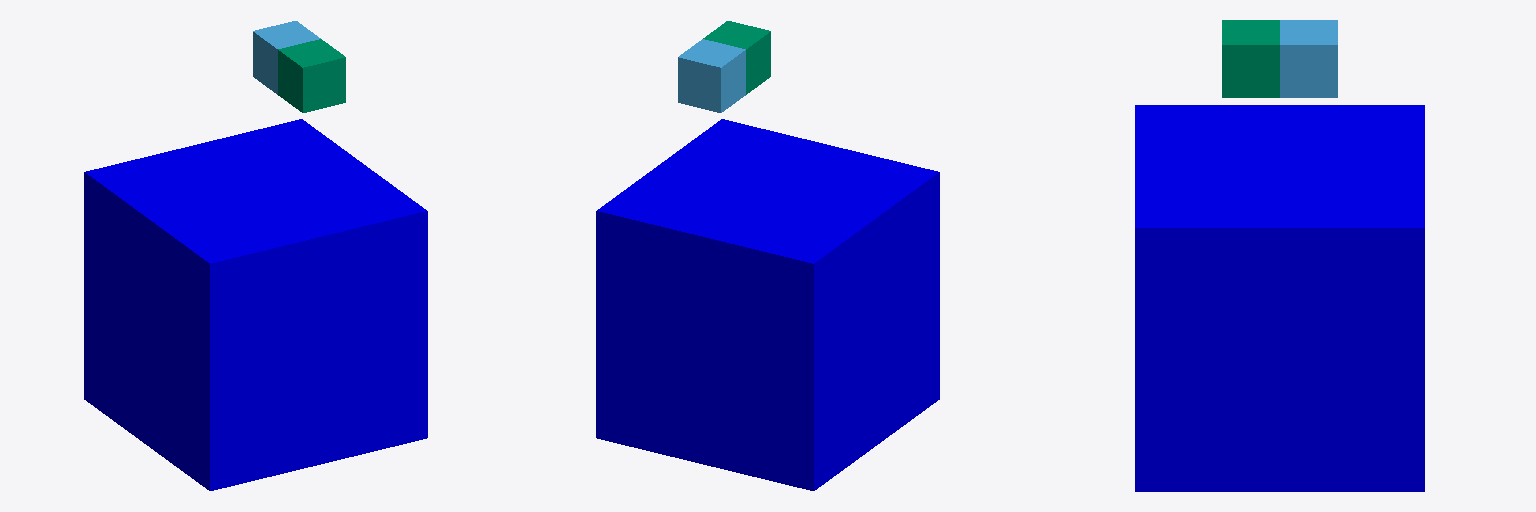
URDF robot description (stereo_camera):
<?xml version="1.0"?>
<robot name="stereo_camera"
    xmlns:xacro="http://www.ros.org/wiki/xacro">
    <!-- Base Link -->
    <link name="base_link">
        <visual>
            <geometry>
                <box size="0.5 0.5 0.5"/>
            </geometry>
            <material name="blue">
                <color rgba="0 0 1 1"/>
            </material>
        </visual>
        <collision>
            <geometry>
                <box size="0.5 0.5 0.5"/>
            </geometry>
        </collision>
        <inertial>
            <mass value="5.0"/>
            <origin xyz="0 0 0"/>
            <inertia ixx="0.1" ixy="0.0" ixz="0.0" iyy="0.1" iyz="0.0" izz="0.1"/>
        </inertial>
    </link>

    <!-- Left Camera Link -->
    <link name="left_camera_link">
        <visual>
            <origin xyz="0 0 0" rpy="0 0 0"/>
            <geometry>
                <box size="0.1 0.1 0.1"/>
            </geometry>
        </visual>
        <collision>
            <origin xyz="0 0 0" rpy="0 0 0"/>
            <geometry>
                <box size="0.1 0.1 0.1"/>
            </geometry>
        </collision>
    </link>

    <!-- Right Camera Link -->
    <link name="right_camera_link">
        <visual>
            <origin xyz="0 0 0" rpy="0 0 0"/>
            <geometry>
                <box size="0.1 0.1 0.1"/>
            </geometry>
        </visual>
        <collision>
            <origin xyz="0 0 0" rpy="0 0 0"/>
            <geometry>
                <box size="0.1 0.1 0.1"/>
            </geometry>
        </collision>
    </link>

    <!-- Left Camera Joint -->
    <joint name="left_camera_joint" type="fixed">
        <parent link="base_link"/>
        <child link="left_camera_link"/>
        <origin xyz="0.1 0.05 0.5" rpy="0 0 0"/>
    </joint>

    <!-- Right Camera Joint -->
    <joint name="right_camera_joint" type="fixed">
        <parent link="base_link"/>
        <child link="right_camera_link"/>
        <origin xyz="0.1 -0.05 0.5" rpy="0 0 0"/>
    </joint>

    <!-- Left Camera Plugin -->
    <gazebo reference="left_camera_link">
        <sensor name="left_rgb_camera" type="camera">
            <visualize>true</visualize>
            <update_rate>20</update_rate>
            <camera>
                <horizontal_fov>2.14875</horizontal_fov>
                <!-- this H_fov is assuming 1920 sensor width and 520 pixels as focal length -->
                <image>
                    <width>1920</width>
                    <height>1080</height>
                    <format>R8G8B8</format>
                </image>
                <clip>
                    <near>0.05</near>
                    <far>30</far>
                </clip>
            </camera>
            <plugin name="left_camera_controller" filename="libgazebo_ros_camera.so">
                <robotNamespace>/stereo_camera</robotNamespace>
                <tf_prefix>stereo_camera</tf_prefix>
                <cameraName>left_camera_rgb</cameraName>
                <imageTopicName>/camera/left/color/image_raw</imageTopicName>
                <cameraInfoTopicName>/camera/left/color/camera_info</cameraInfoTopicName>
                <frameName>left_camera_link</frameName>
            </plugin>
        </sensor>
    </gazebo>

    <!-- Right Camera Plugin -->
    <gazebo reference="right_camera_link">
        <sensor name="right_rgb_camera" type="camera">
            <visualize>true</visualize>
            <update_rate>20</update_rate>
            <camera>
                <horizontal_fov>2.14875</horizontal_fov>
                <!-- this H_fov is assuming 1920 sensor width and 520 pixels as focal length -->
                <image>
                    <width>1920</width>
                    <height>1080</height>
                    <format>R8G8B8</format>
                </image>
                <clip>
                    <near>0.05</near>
                    <far>30</far>
                </clip>
            </camera>
            <plugin name="right_camera_controller" filename="libgazebo_ros_camera.so">
                <robotNamespace>/stereo_camera</robotNamespace>
                <tf_prefix>stereo_camera</tf_prefix>
                <cameraName>right_camera_rgb</cameraName>
                <imageTopicName>/camera/right/color/image_raw</imageTopicName>
                <cameraInfoTopicName>/camera/right/color/camera_info</cameraInfoTopicName>
                <frameName>right_camera_link</frameName>
            </plugin>
        </sensor>
    </gazebo>
</robot>

--- What the picture shows (computed from the rendered views, not written in the file) ---
The picture shows the robot from 3 angles, left to right: view 1: azimuth 30°, elevation 25°; view 2: azimuth 150°, elevation 25°; view 3: azimuth 270°, elevation 25°; orthographic projection.
Model stereo_camera with 3 links and 2 joints (2 fixed), rooted at base_link, posed every joint at zero.
Links seen in each view (by area): view 1: base_link, right_camera_link, left_camera_link; view 2: base_link, left_camera_link, right_camera_link; view 3: base_link, left_camera_link, right_camera_link.
Link boxes in pixels (left/top/right/bottom): base_link: left=84, top=119, right=427, bottom=490; right_camera_link: left=278, top=39, right=345, bottom=112; left_camera_link: left=253, top=21, right=320, bottom=94; base_link: left=596, top=119, right=939, bottom=490; left_camera_link: left=678, top=39, right=745, bottom=112; right_camera_link: left=703, top=21, right=770, bottom=94; base_link: left=1135, top=105, right=1424, bottom=491; left_camera_link: left=1280, top=20, right=1337, bottom=97; right_camera_link: left=1222, top=20, right=1279, bottom=97.
Bounding box of the posed robot: 0.5 × 0.5 × 0.8 m (x, y, z).
Geometry: primitives only (box / cylinder / sphere), no mesh files.
